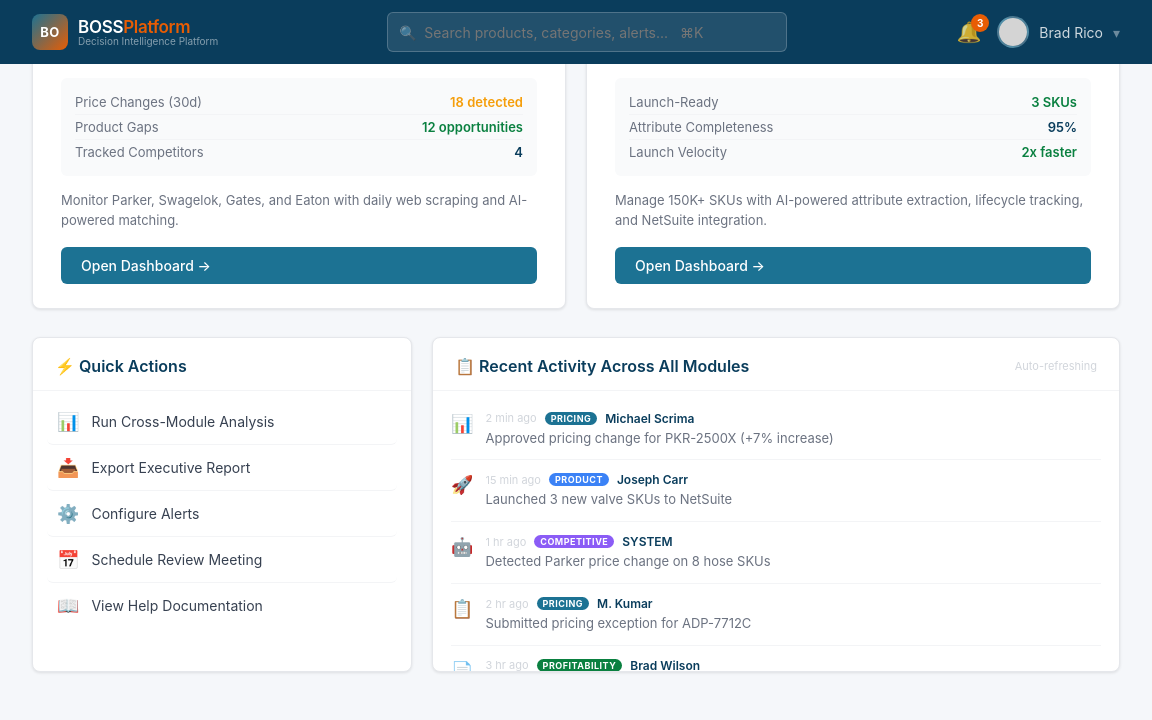
Test: Home Screen Navigation › Quick Actions show toast
(page scrolled)
Click the text "Run Cross-Module Analysis". click: (183, 421)
box: [92,413,274,430]
(page scrolled)
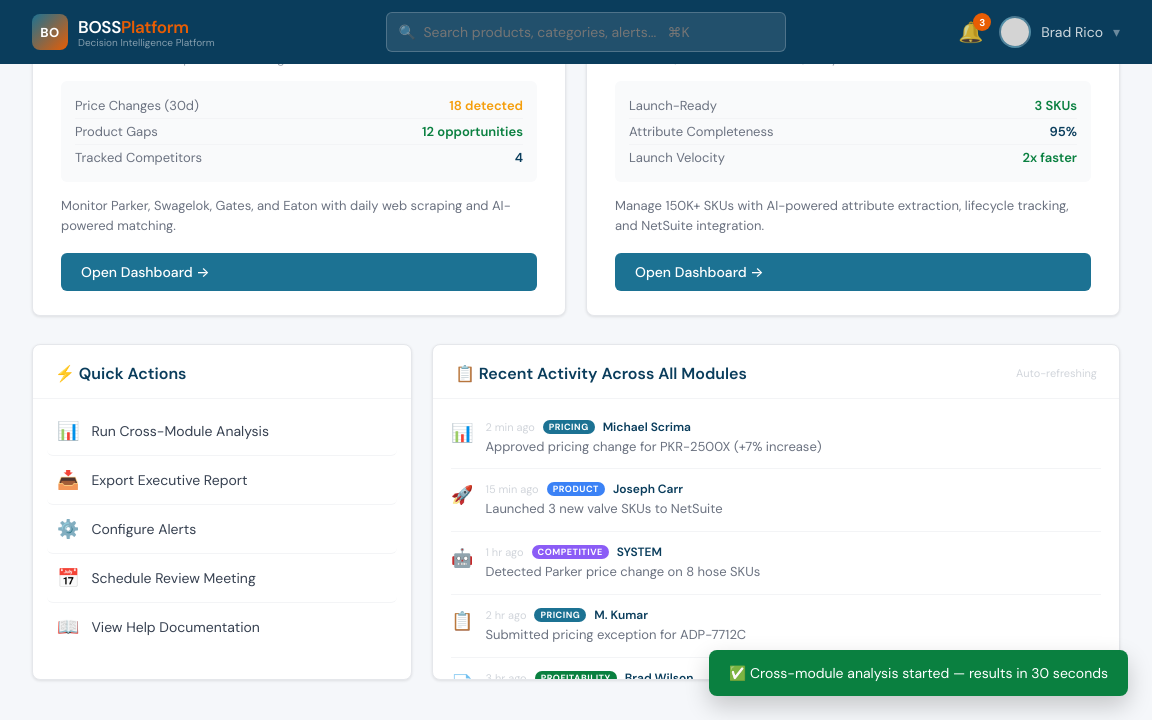
Expected: the text "✅ Cross-module analysis started — results in 30 seconds" is shown, [709,650,1128,696]
